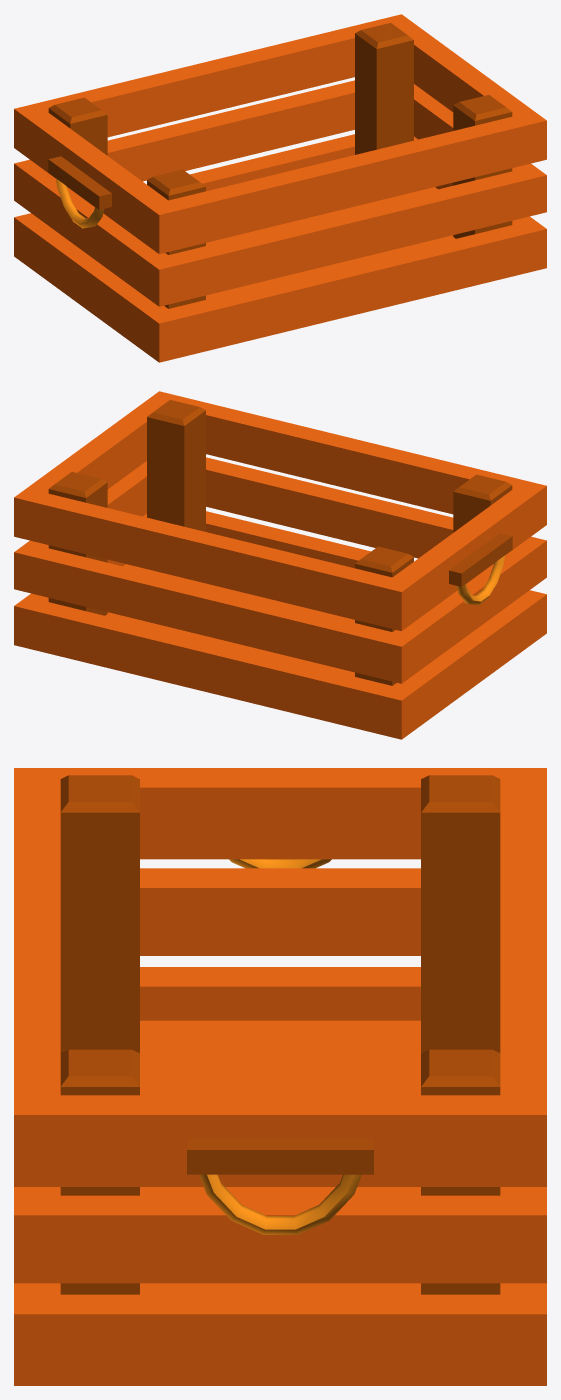
File: Props_Crate_Wooden__01.fbx
The picture shows the model from 3 angles, top to bottom: view 1: azimuth 30°, elevation 25°; view 2: azimuth 150°, elevation 25°; view 3: azimuth 270°, elevation 25°; orthographic projection. The views are drawn at different scales.
Parts seen in each view (by area): view 1: Props_Crate_Wooden _01; view 2: Props_Crate_Wooden _01; view 3: Props_Crate_Wooden _01.
Boxes of the visible parts, x1,y1,x2,y2 form: Props_Crate_Wooden _01: (14, 14, 546, 362); Props_Crate_Wooden _01: (14, 391, 546, 739); Props_Crate_Wooden _01: (14, 768, 546, 1385).
Size of the model in its own units: 202 by 77.97 by 123.
